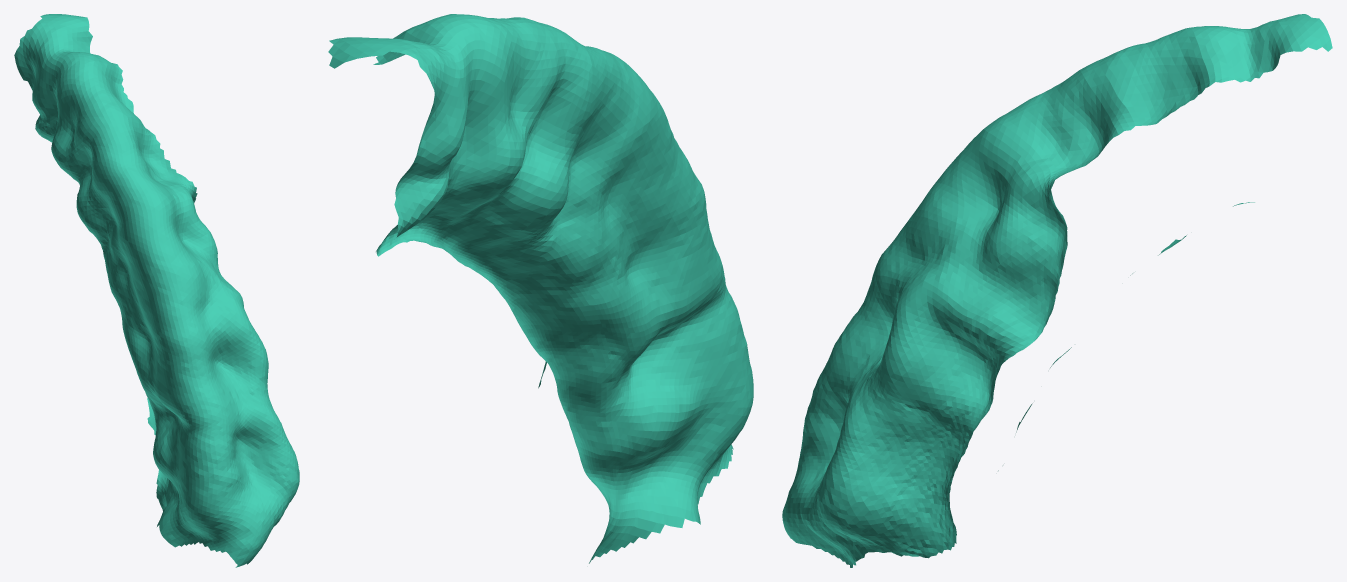
Rendered from rh_superiorfrontal.glb.
The picture shows the model from 3 angles, left to right: view 1: azimuth 30°, elevation 25°; view 2: azimuth 150°, elevation 25°; view 3: azimuth 270°, elevation 25°; orthographic projection. The views are drawn at different scales.
Parts seen in each view (by area): view 1: world; view 2: world; view 3: world.
Part boxes in pixels (bbox=[...]): world: bbox=[14, 14, 299, 567]; world: bbox=[328, 14, 753, 563]; world: bbox=[782, 14, 1332, 567].
Size of the model in its own units: 23.28 by 80.38 by 75.39.
